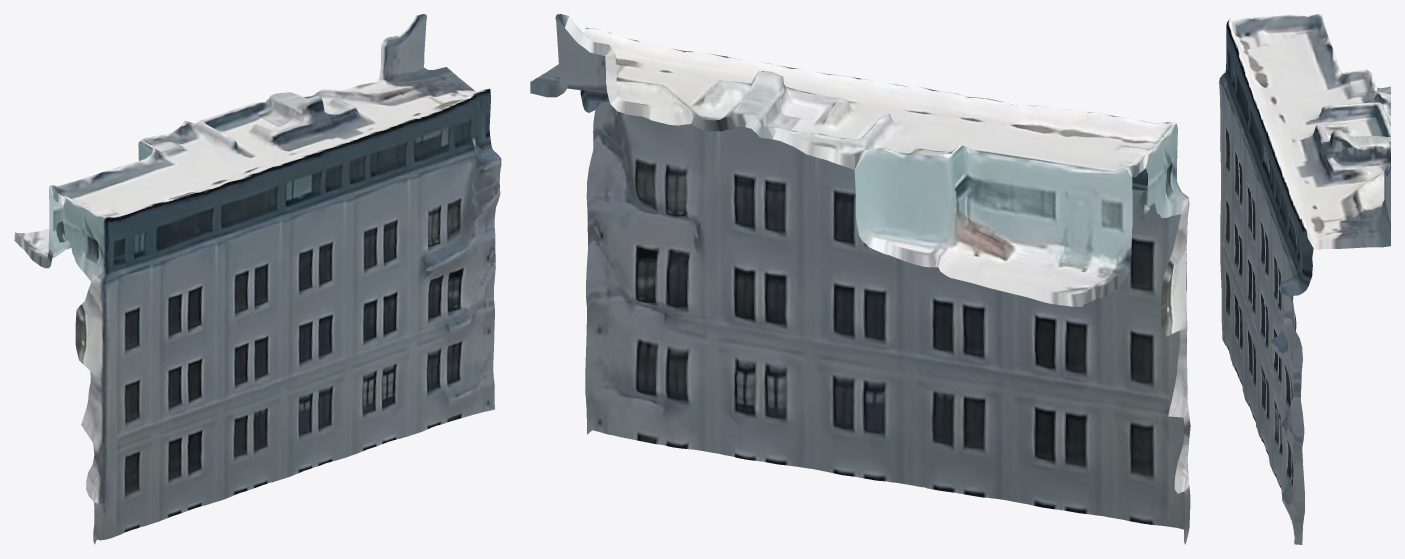
The model's file is z20-167758-405239-h1-yup-uvflip-v3-world.glb.
The picture shows the model from 3 angles, left to right: view 1: azimuth 30°, elevation 25°; view 2: azimuth 150°, elevation 25°; view 3: azimuth 270°, elevation 25°; orthographic projection. The views are drawn at different scales.
Size of the model in its own units: 30.2 by 24.92 by 10.4.
Materials: 1 (1 with a texture image).
